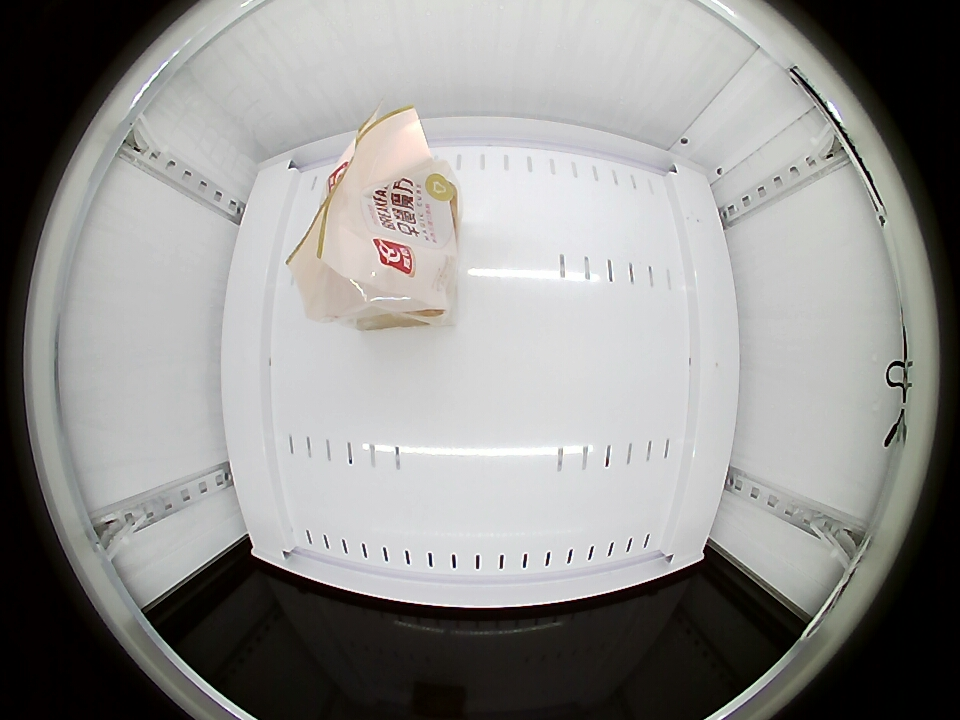zaocanmofang: (295, 112, 460, 327)
